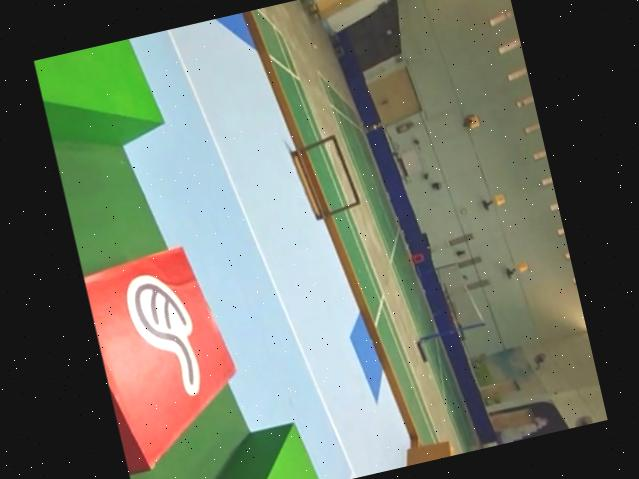R2 Fake: (80, 238, 256, 472)
